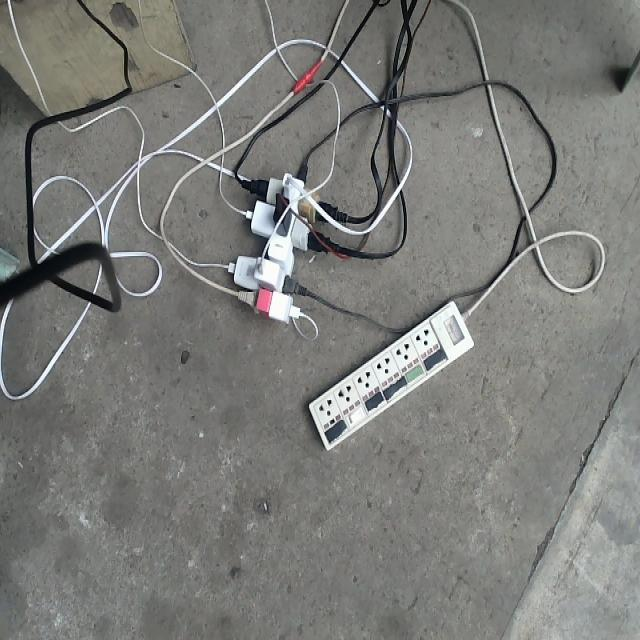-: (222, 163, 345, 324)
